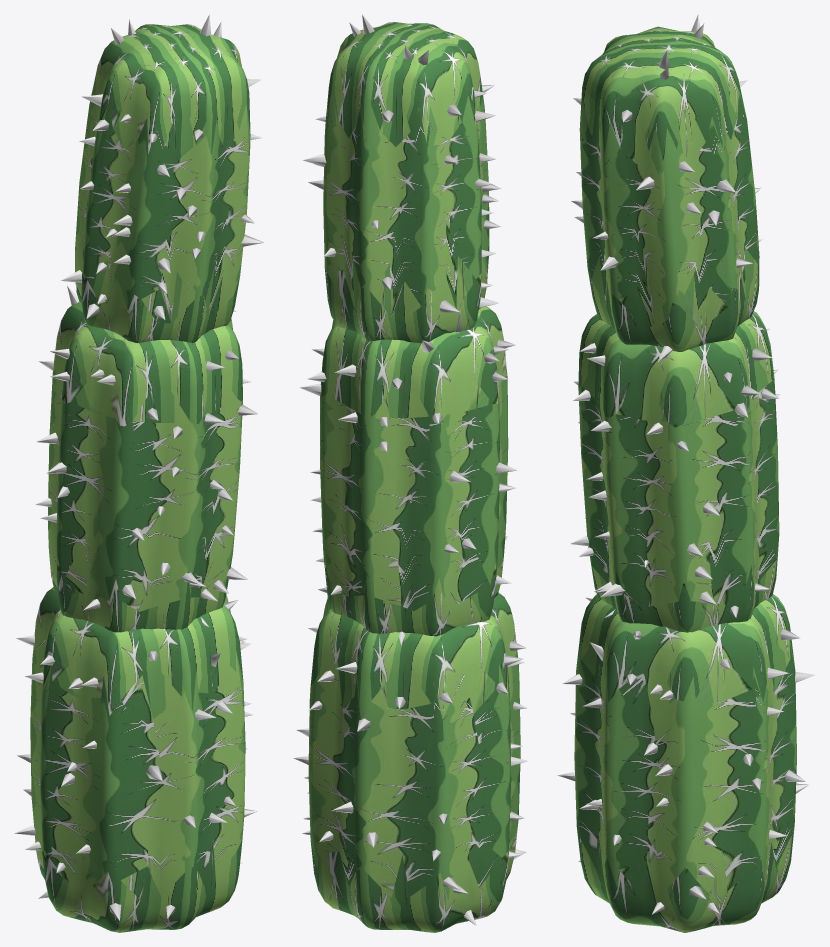
The model's file is tall-cactus.glb.
3 renders of one model, left to right at view 1: azimuth 30°, elevation 25°; view 2: azimuth 150°, elevation 25°; view 3: azimuth 270°, elevation 25°, orthographic.
Parts seen in each view (by area): view 1: Trunk_6; view 2: Trunk_6; view 3: Trunk_6.
Boxes of the visible parts, x1,y1,x2,y2 form: Trunk_6: [30, 24, 250, 932]; Trunk_6: [308, 22, 520, 932]; Trunk_6: [574, 26, 796, 932].
Size of the model in its own units: 1.32 by 5.37 by 1.41.
Materials: 1 (1 with a texture image).
